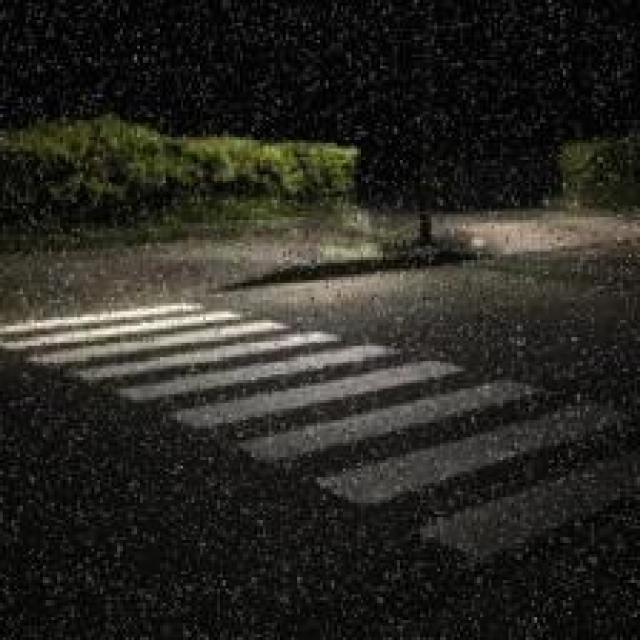crosswalk: (2, 297, 640, 604)
